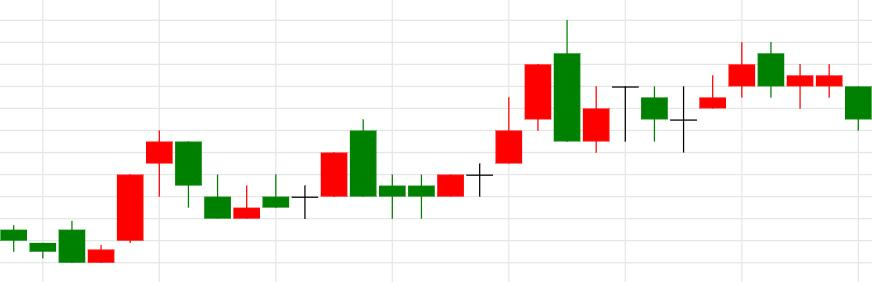bearish_engulfing_fall: (378, 21, 582, 219)
